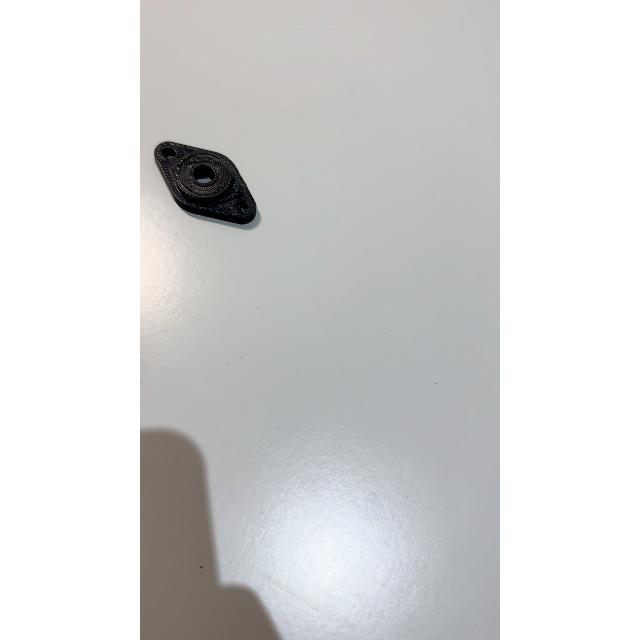Pieza_2: (147, 133, 260, 249)
